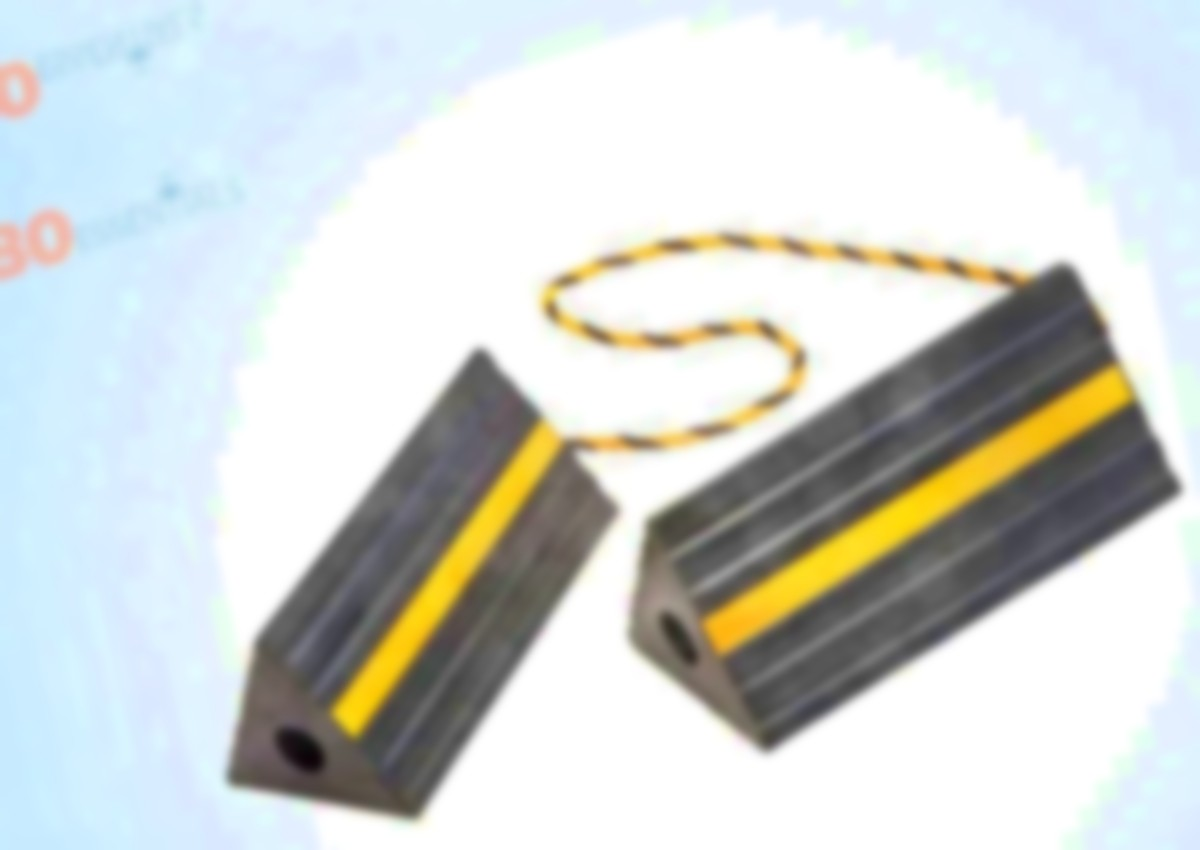chock: (567, 226, 1200, 803), (137, 303, 693, 850)
